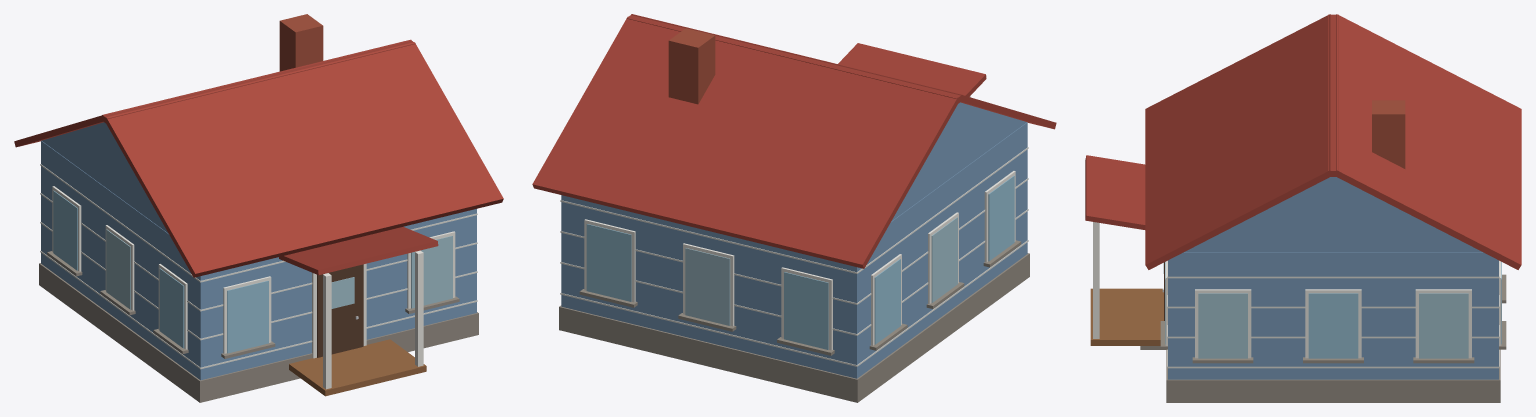
Rendered from House_Small.glb.
The picture shows the model from 3 angles, left to right: view 1: azimuth 30°, elevation 25°; view 2: azimuth 150°, elevation 25°; view 3: azimuth 270°, elevation 25°; orthographic projection. The views are drawn at different scales.
Parts seen in each view (by area): view 1: House_Small; view 2: House_Small; view 3: House_Small.
Boxes of the visible parts, left/top/right/bottom form: House_Small: left=14, top=14, right=503, bottom=402; House_Small: left=532, top=14, right=1056, bottom=402; House_Small: left=1085, top=14, right=1521, bottom=402.
Size of the model in its own units: 6.7 by 5.22 by 7.91.
Materials: 1 (1 with a texture image).
